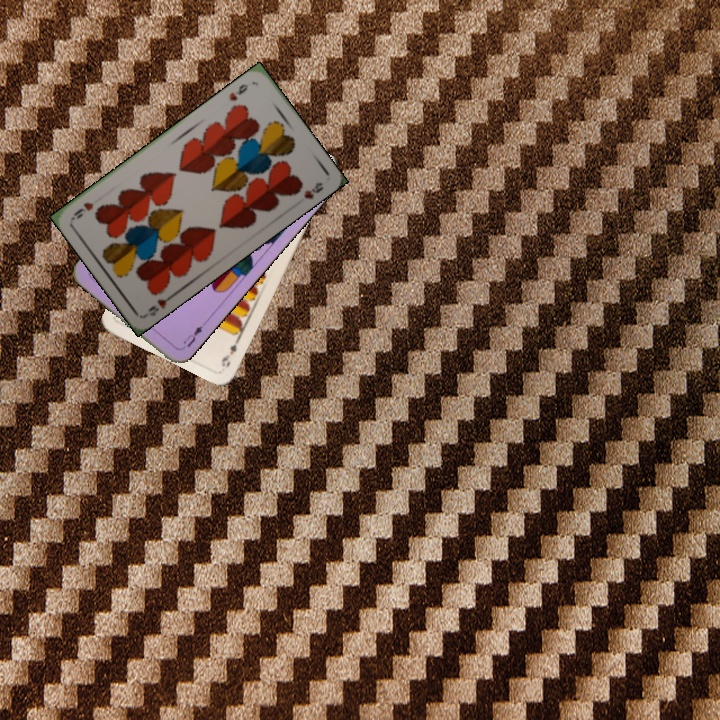E9: (217, 334, 242, 370)
EU: (176, 318, 208, 352)
H9: (144, 290, 177, 319), (225, 80, 251, 104)
